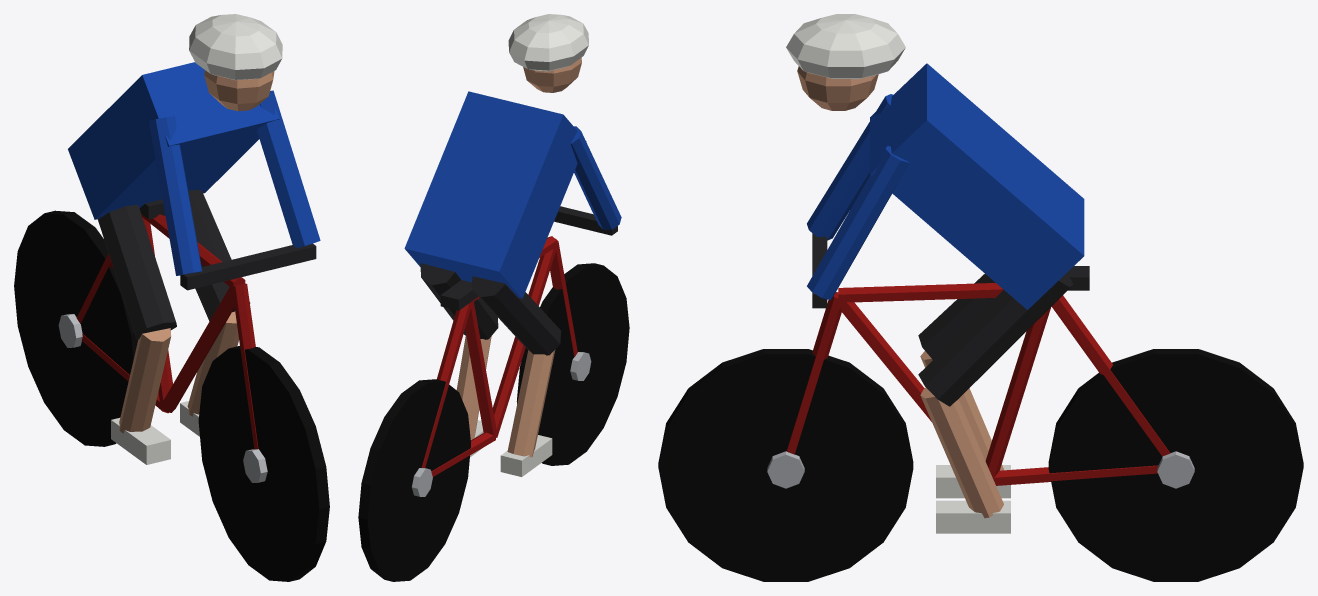
The model's file is SM_cyclist.fbx.
The picture shows the model from 3 angles, left to right: view 1: azimuth 30°, elevation 25°; view 2: azimuth 150°, elevation 25°; view 3: azimuth 270°, elevation 25°; orthographic projection. The views are drawn at different scales.
Parts seen in each view (by area): view 1: SM_cyclist; view 2: SM_cyclist; view 3: SM_cyclist.
Part boxes in pixels (bbox=[...]): SM_cyclist: bbox=[14, 14, 329, 581]; SM_cyclist: bbox=[358, 14, 629, 581]; SM_cyclist: bbox=[658, 14, 1303, 581].
Bounding box in the file's own units: 0.4631 × 1.64 × 1.72.
